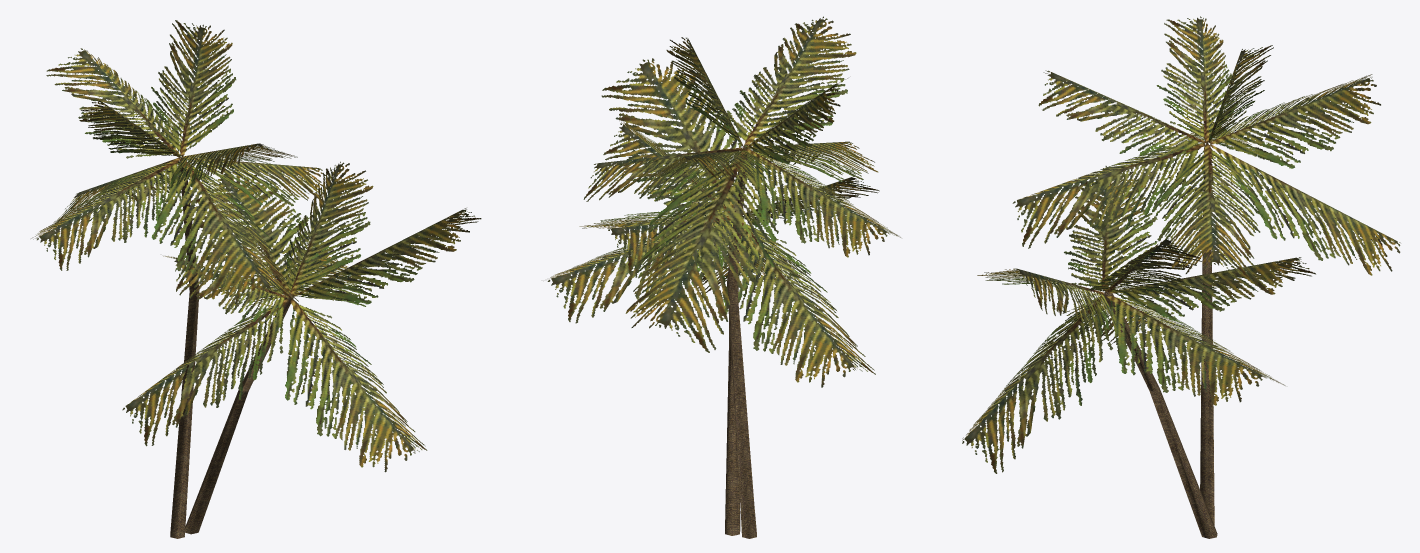
The picture shows the model from 3 angles, left to right: view 1: azimuth 30°, elevation 25°; view 2: azimuth 150°, elevation 25°; view 3: azimuth 270°, elevation 25°; orthographic projection. The views are drawn at different scales.
Parts seen in each view (by area): view 1: _gp01a; view 2: _gp01a; view 3: _gp01a.
Boxes of the visible parts, x1=… form: _gp01a: x1=31, y1=20, x2=481, y2=538; _gp01a: x1=547, y1=16, x2=900, y2=538; _gp01a: x1=962, y1=16, x2=1400, y2=538.
Bounding box in the file's own units: 7.97 × 9.73 × 8.13.
2 materials, 2 textured.
